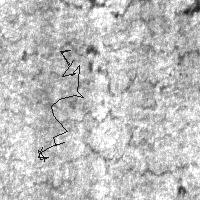crazing: (4, 2, 200, 57), (19, 36, 189, 95), (40, 102, 189, 166), (38, 50, 83, 161)
